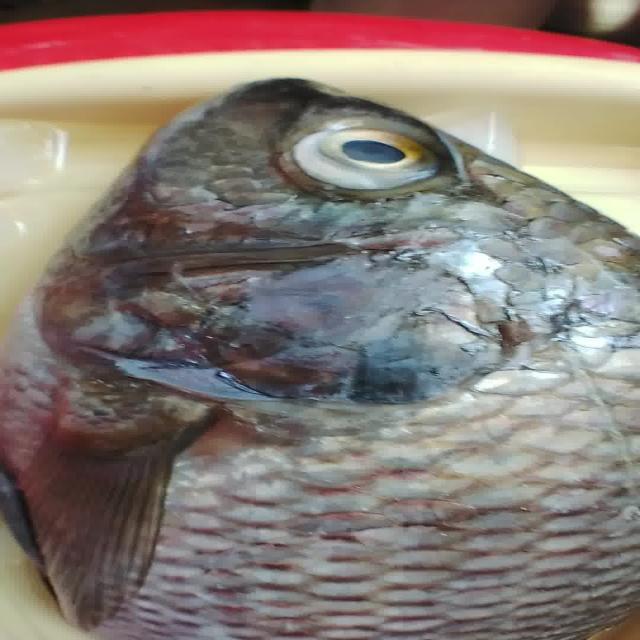Fresh: (58, 276, 590, 618), (277, 107, 468, 198)
